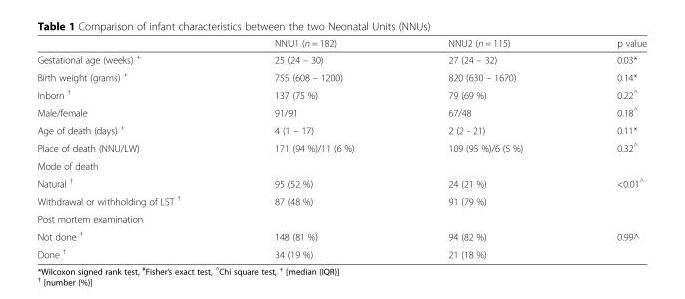table: (36, 37, 646, 259)
table column: (36, 37, 226, 259), (226, 37, 400, 259), (400, 37, 569, 259), (569, 37, 646, 259)
table column header: (36, 37, 646, 50)
table projected row header: (36, 156, 646, 173), (36, 209, 646, 226)
table row: (36, 67, 646, 85), (36, 102, 646, 120), (36, 120, 646, 138), (36, 138, 646, 156), (36, 173, 646, 191), (36, 191, 646, 209), (36, 226, 646, 244), (36, 50, 646, 67), (36, 85, 646, 102), (36, 156, 646, 173), (36, 209, 646, 226), (36, 244, 646, 259), (36, 37, 646, 50)
table spanning cell: (569, 173, 646, 209), (569, 226, 646, 259)
